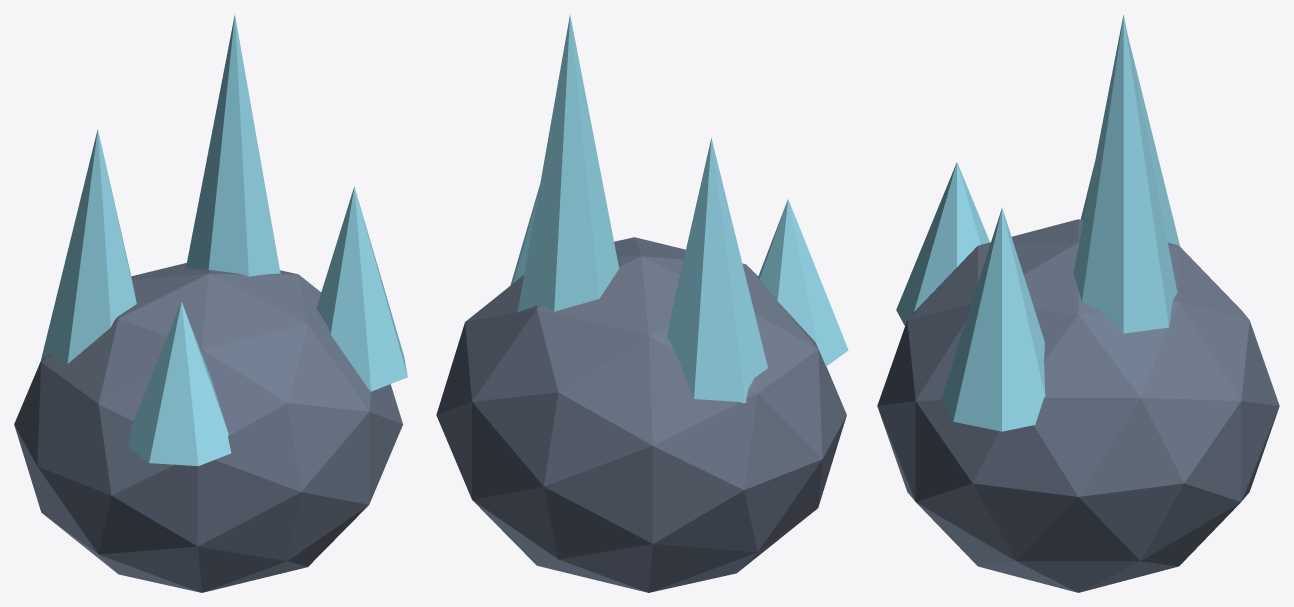
File: ore_Endurium.glb
3 renders of one model, left to right at view 1: azimuth 30°, elevation 25°; view 2: azimuth 150°, elevation 25°; view 3: azimuth 270°, elevation 25°, orthographic. The views are drawn at different scales.
Visible parts, largest first — view 1: rock, crystal_1, crystal_0, crystal_3, crystal_2; view 2: rock, crystal_1, crystal_0, crystal_3, crystal_2; view 3: rock, crystal_1, crystal_2, crystal_3, crystal_0.
Part boxes in pixels (bbox=[...]): rock: bbox=[14, 263, 402, 592]; crystal_1: bbox=[186, 14, 280, 276]; crystal_0: bbox=[40, 129, 136, 363]; crystal_3: bbox=[128, 301, 231, 466]; crystal_2: bbox=[316, 186, 407, 391]; rock: bbox=[436, 237, 846, 592]; crystal_1: bbox=[517, 14, 619, 311]; crystal_0: bbox=[667, 138, 767, 403]; crystal_3: bbox=[758, 199, 848, 366]; crystal_2: bbox=[510, 185, 539, 285]; rock: bbox=[877, 219, 1279, 592]; crystal_1: bbox=[1073, 15, 1177, 333]; crystal_2: bbox=[941, 207, 1045, 431]; crystal_3: bbox=[896, 162, 989, 325]; crystal_0: bbox=[1080, 35, 1179, 245].
Size of the model in its own units: 1.24 by 1.85 by 1.16.
